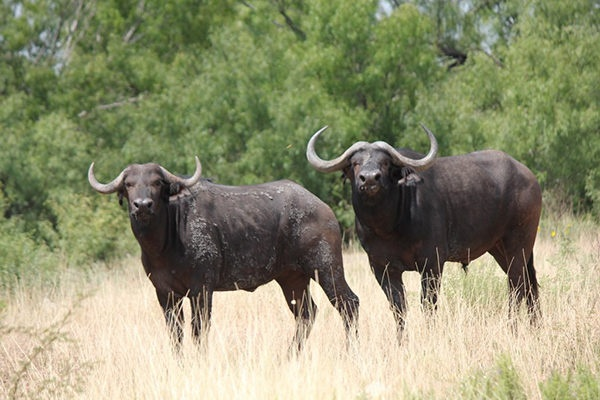buffalo: (88, 158, 360, 354), (307, 124, 544, 337)
